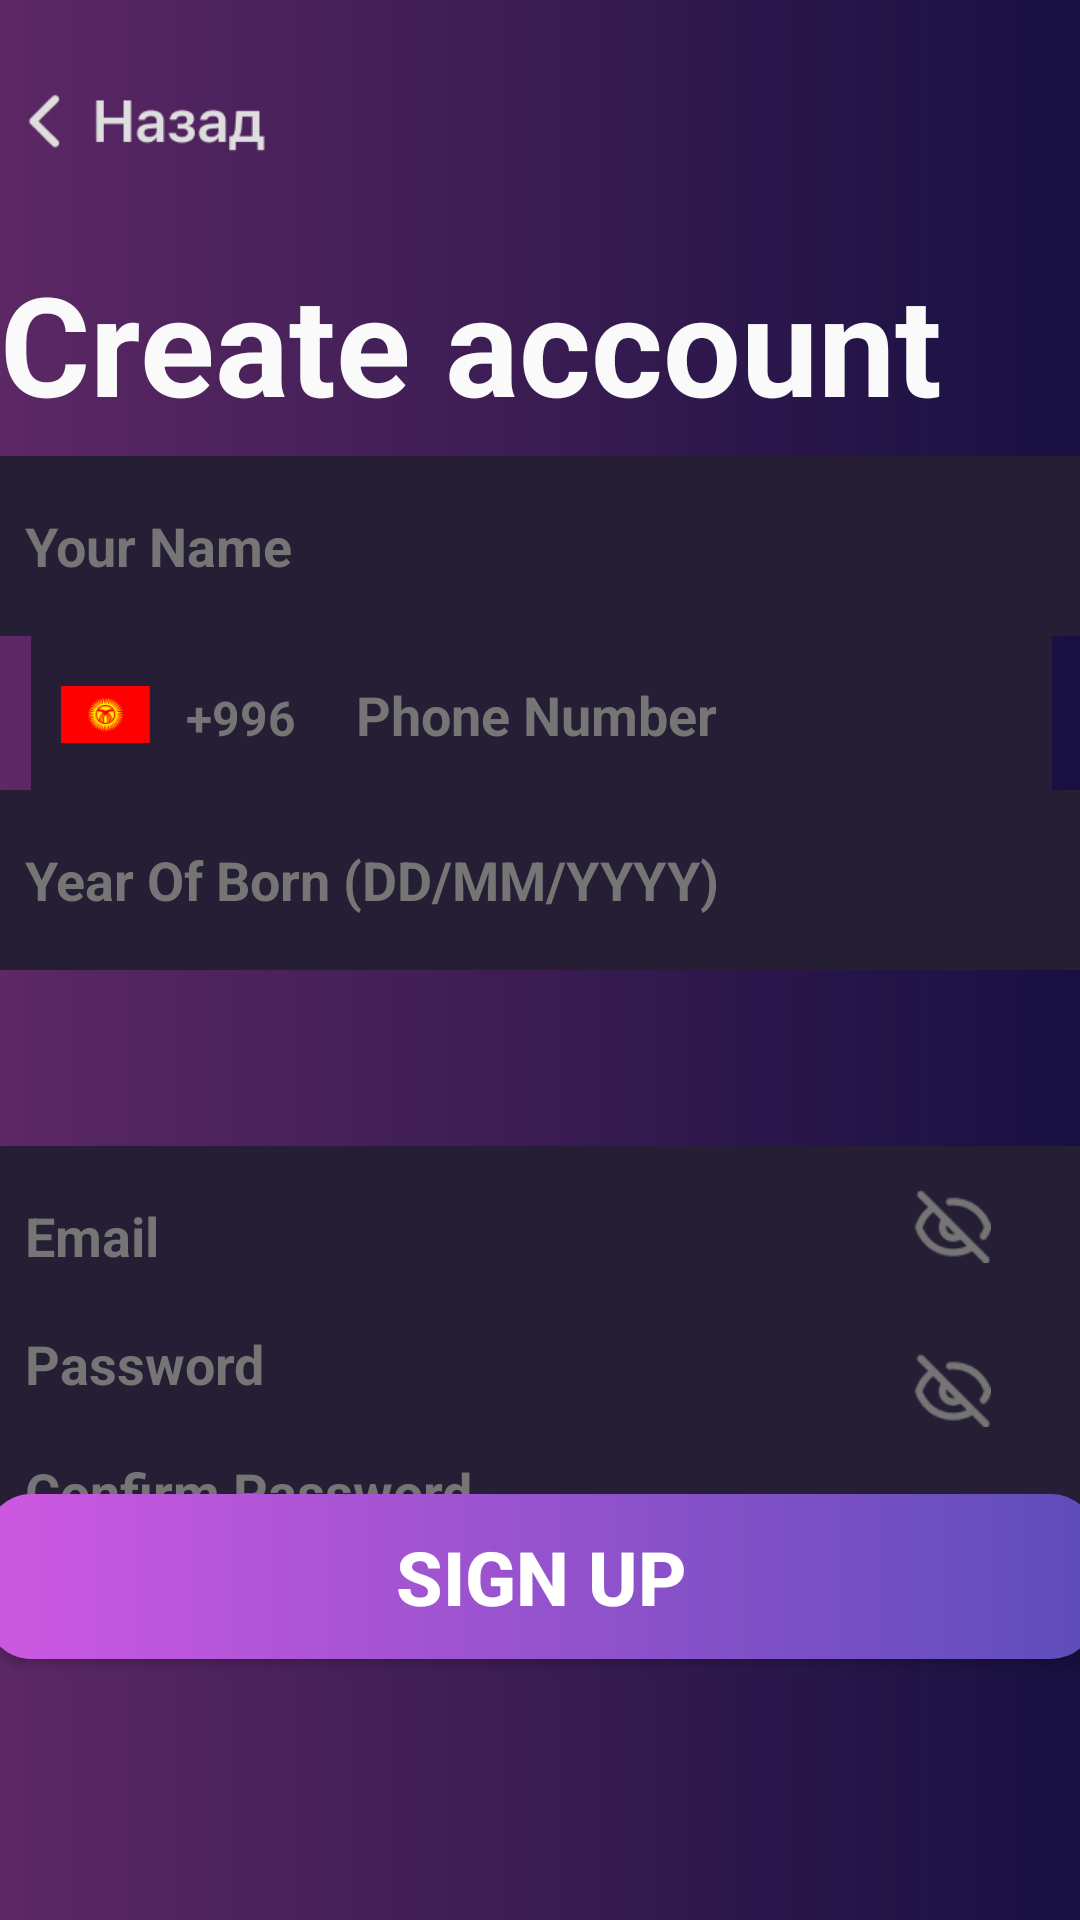

Where icons sit on this 1080*1920 app screen, as [left=x1, top=y1, right=x2, bottom=y2]:
hidetext daniyar: [left=915, top=1191, right=991, bottom=1263], [left=915, top=1355, right=991, bottom=1427]
kgz daniyar: [left=61, top=686, right=151, bottom=743]
